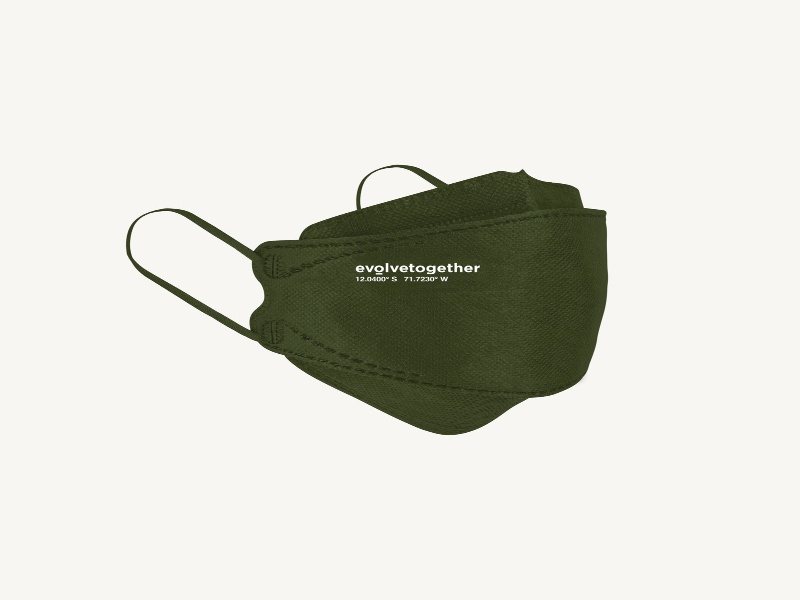mask: (250, 169, 611, 436)
